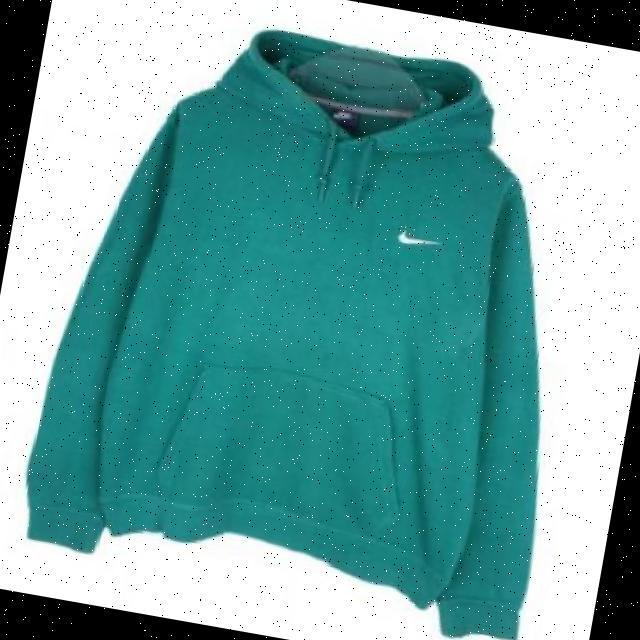Nike: (393, 224, 437, 249)
